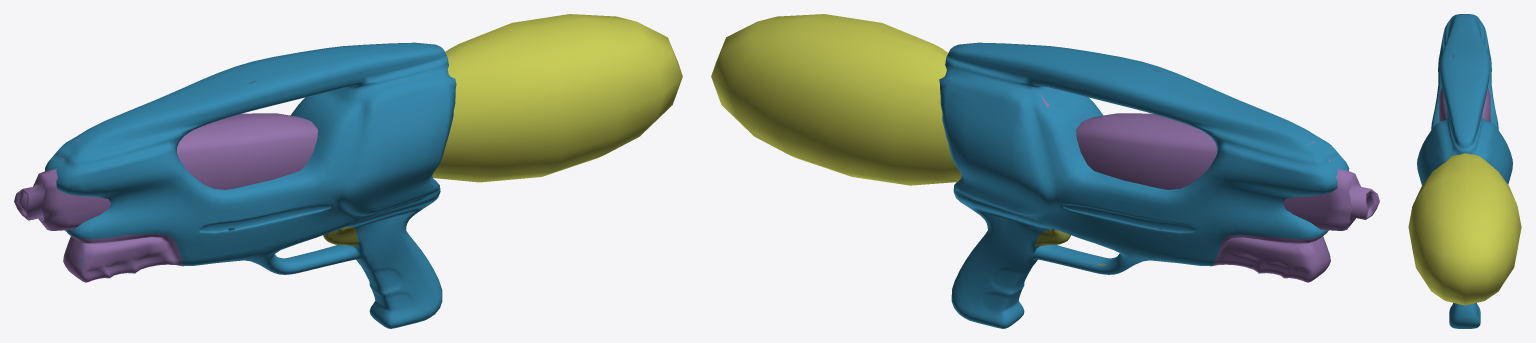
Rendered from Model-Gun.fbx.
3 renders of one model, left to right at view 1: azimuth 30°, elevation 25°; view 2: azimuth 150°, elevation 25°; view 3: azimuth 270°, elevation 25°, orthographic. The views are drawn at different scales.
Parts seen in each view (by area): view 1: lowGun; view 2: lowGun; view 3: lowGun.
Boxes of the visible parts, left/top/right/bottom form: lowGun: left=14, top=14, right=682, bottom=328; lowGun: left=711, top=14, right=1379, bottom=328; lowGun: left=1408, top=14, right=1521, bottom=328.
Bounding box in the file's own units: 4.95 × 2.04 × 0.9884.
